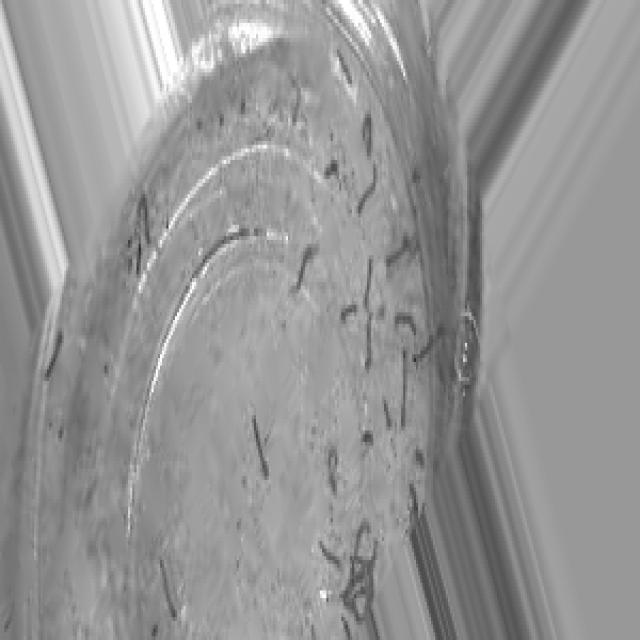larvas: (340, 541, 380, 604), (157, 551, 180, 625), (414, 321, 447, 370), (349, 517, 372, 574), (348, 581, 374, 628), (252, 412, 270, 477), (296, 240, 316, 293), (386, 233, 411, 274), (42, 330, 61, 379), (358, 169, 378, 214), (335, 44, 355, 89), (318, 539, 343, 570), (137, 193, 151, 242), (401, 346, 409, 426), (327, 450, 341, 492), (291, 72, 302, 122), (131, 227, 142, 275), (364, 258, 374, 308), (364, 310, 372, 372), (362, 113, 373, 156), (408, 479, 418, 524), (394, 313, 414, 331), (341, 613, 353, 640), (339, 307, 358, 323), (382, 404, 393, 430), (368, 572, 375, 606)
